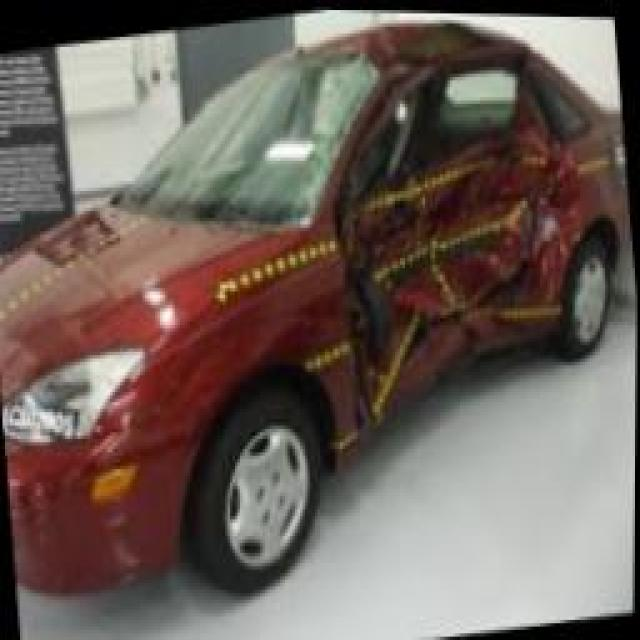Door: (332, 40, 563, 446)
